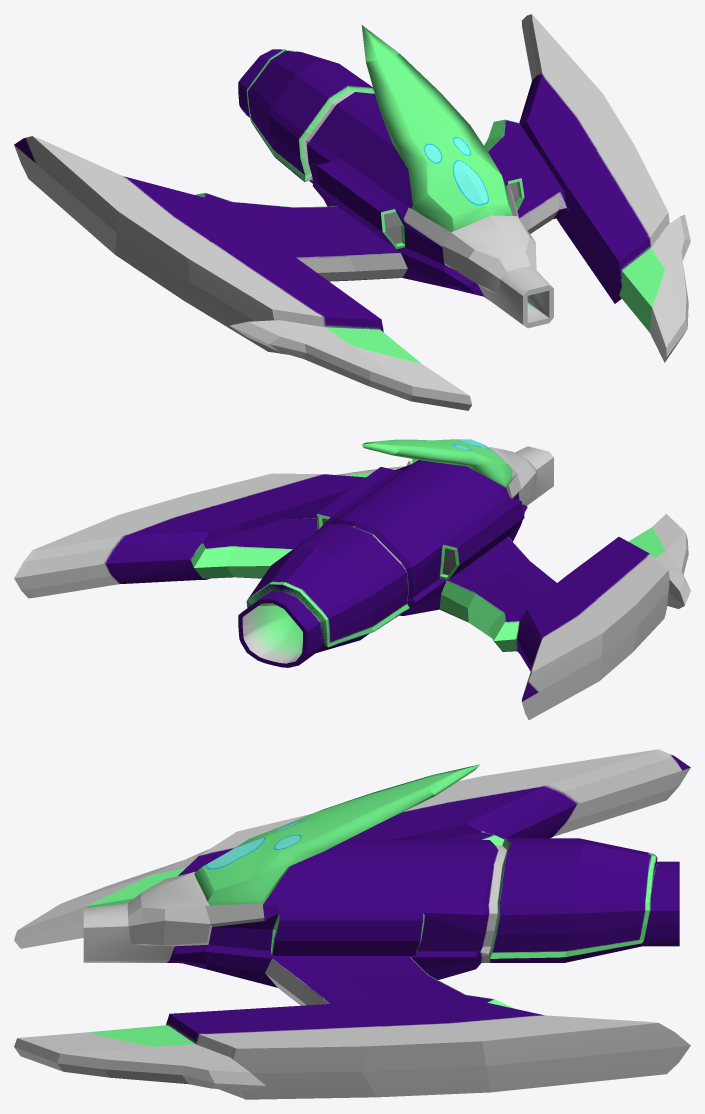
Rendered from Ion_Miner.fbx.
3 renders of one model, top to bottom at view 1: azimuth 30°, elevation 25°; view 2: azimuth 150°, elevation 25°; view 3: azimuth 270°, elevation 25°, orthographic. The views are drawn at different scales.
Parts seen in each view (by area): view 1: Ion_Miner:Ion_Miner1; view 2: Ion_Miner:Ion_Miner1; view 3: Ion_Miner:Ion_Miner1.
Boxes of the visible parts, left/top/right/bottom form: Ion_Miner:Ion_Miner1: left=14, top=14, right=690, bottom=410; Ion_Miner:Ion_Miner1: left=14, top=439, right=690, bottom=719; Ion_Miner:Ion_Miner1: left=14, top=749, right=690, bottom=1099.
Size of the model in its own units: 515 by 206 by 530.
